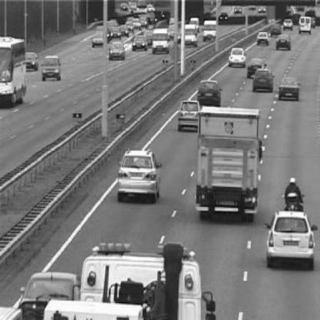other: (192, 103, 262, 215)
